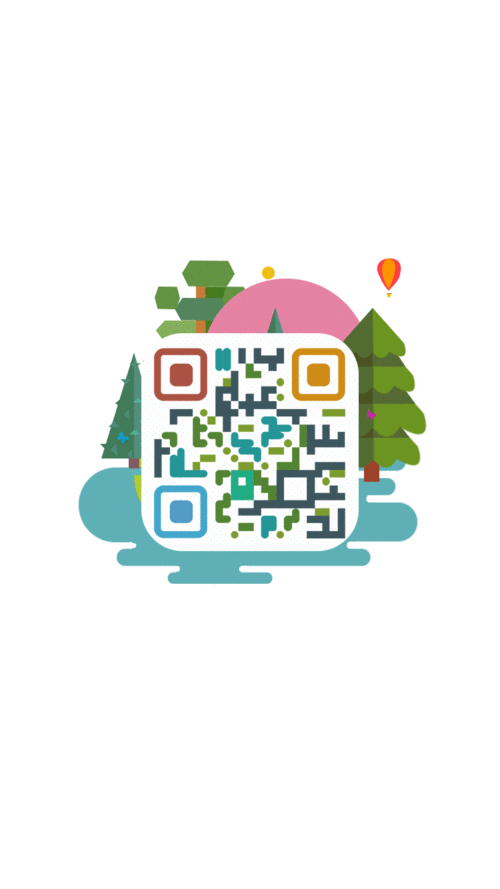QRCode: (143, 334, 361, 543)
